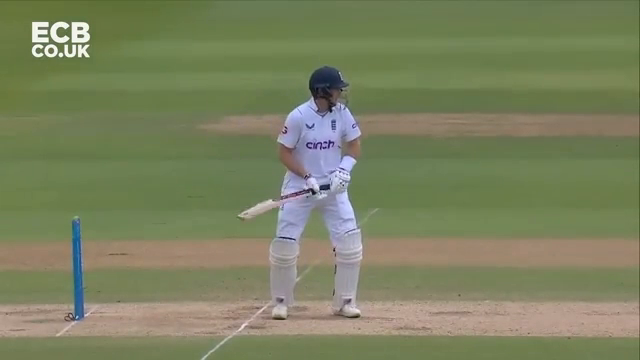batsman: (234, 67, 364, 322)
